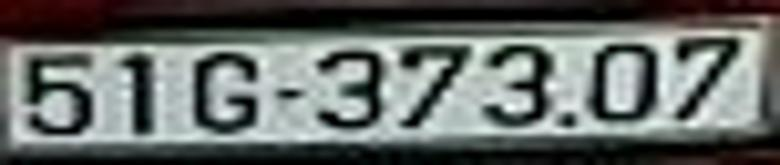-: (276, 87, 304, 98)
.: (559, 112, 574, 125)
0: (589, 42, 656, 121)
1: (124, 52, 154, 133)
3: (314, 47, 384, 129), (486, 42, 549, 126)
5: (24, 53, 93, 134)
7: (399, 47, 468, 127), (676, 36, 741, 119)
G: (194, 52, 258, 130)
